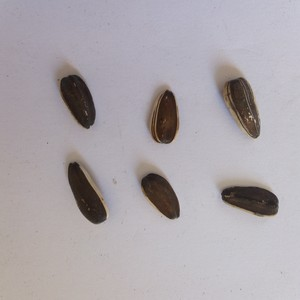girasol: (65, 160, 111, 226), (220, 72, 262, 141), (57, 72, 99, 130), (219, 184, 280, 219), (140, 171, 182, 221), (149, 87, 180, 148)
